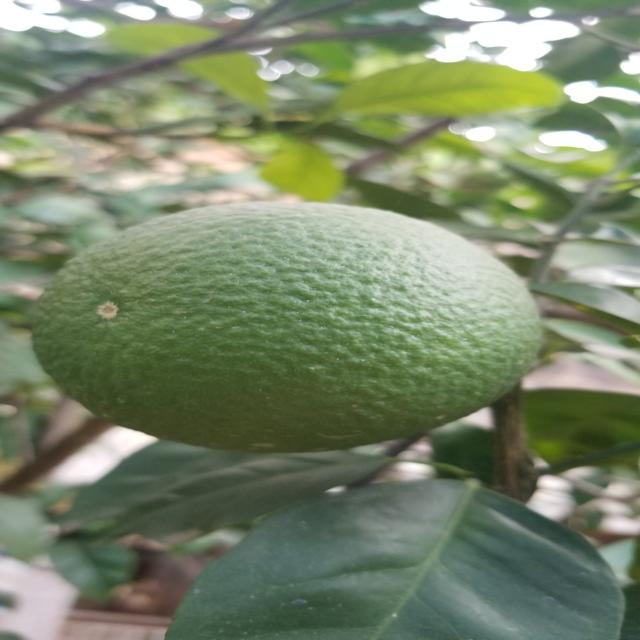Unripe: (29, 195, 548, 456)
